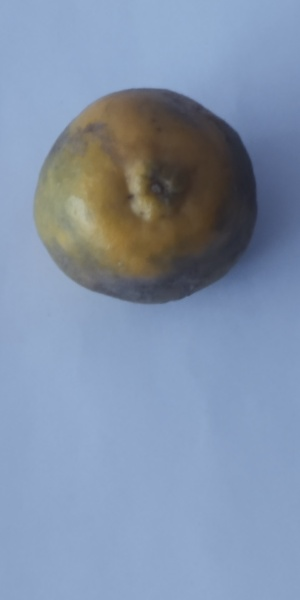BAD: (29, 88, 263, 309)
